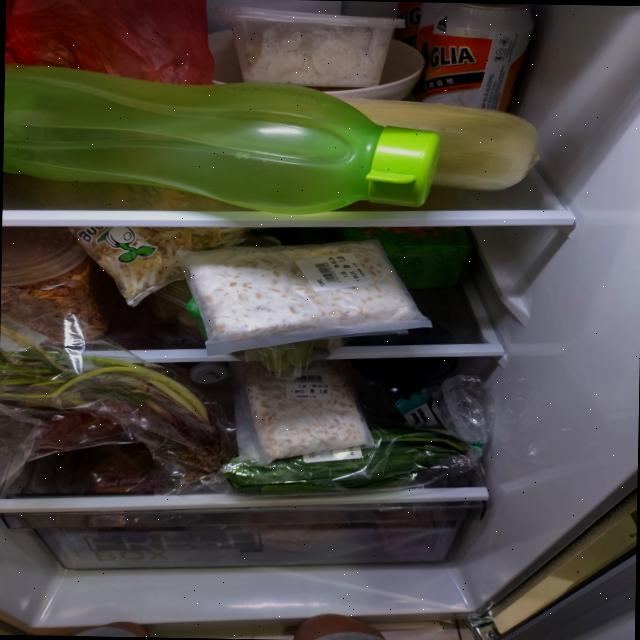bean_sprouts: (66, 224, 266, 302)
corn: (334, 96, 543, 192)
leafy_greens: (225, 424, 472, 500)
spring_onion: (0, 323, 227, 482)
tempeh: (177, 234, 426, 344), (230, 357, 370, 460)
